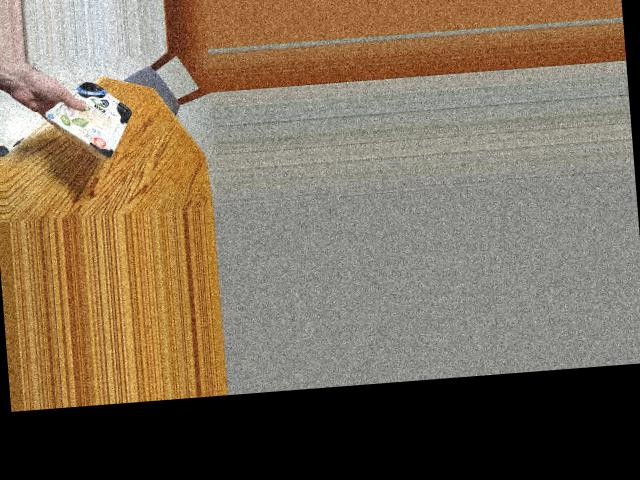cheese: (54, 86, 135, 156)
